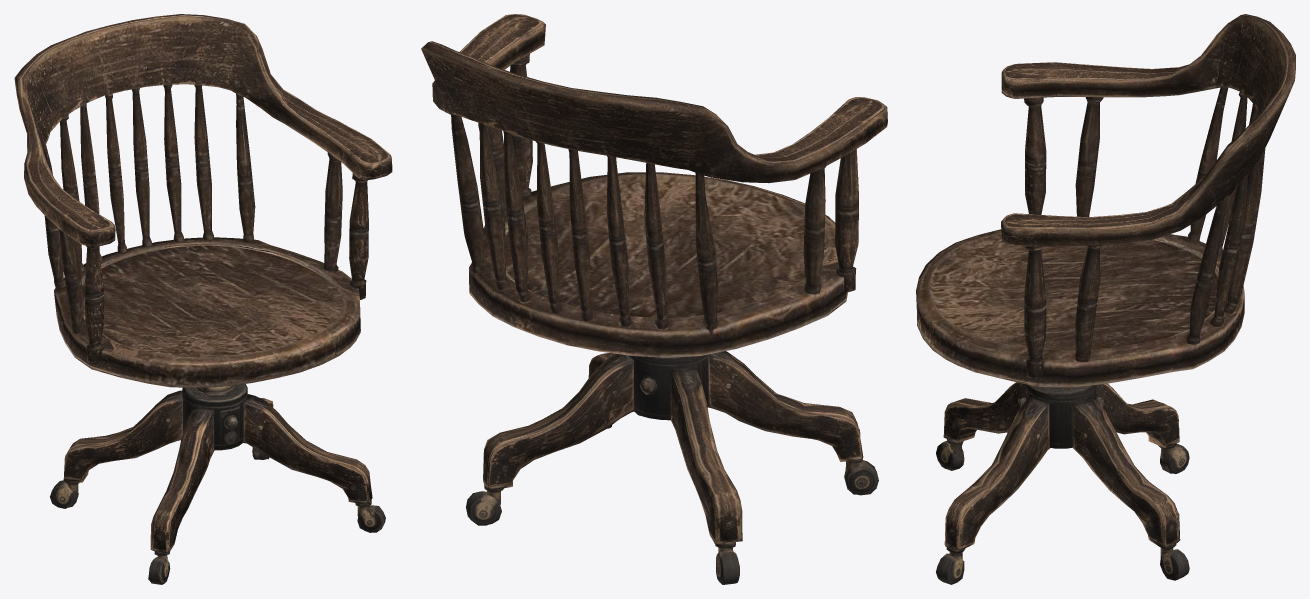
File: office_chair_wooden.glb
The picture shows the model from 3 angles, left to right: view 1: azimuth 30°, elevation 25°; view 2: azimuth 150°, elevation 25°; view 3: azimuth 270°, elevation 25°; orthographic projection. The views are drawn at different scales.
Bounding box in the file's own units: 0.744 × 0.95 × 0.7125.
1 material, 1 textured.
